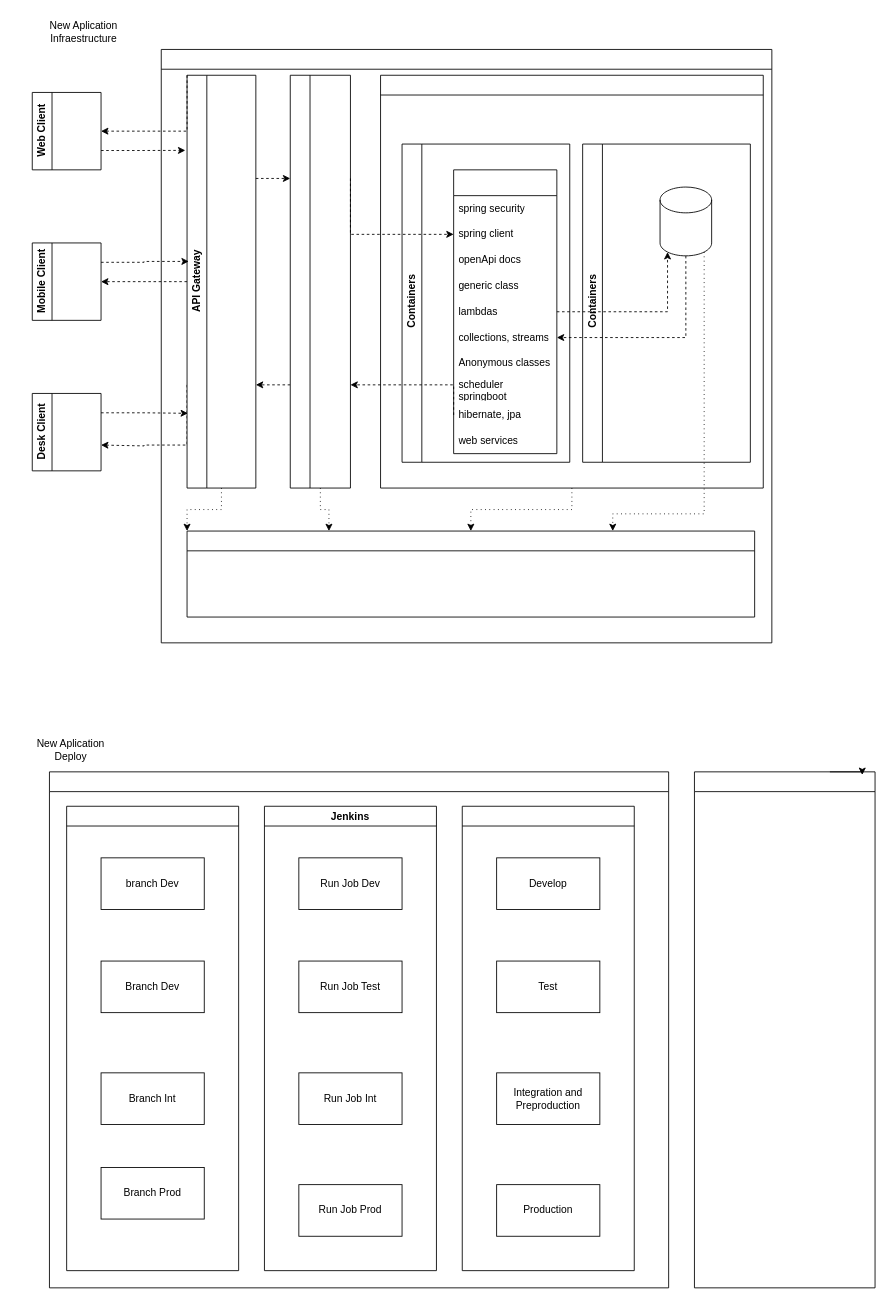
Some shapes in this 890 by 1303 pixel diagram are drawn without their labels. The shapes that lost their labels are listed below. From the top down, each one's box as (x1, y1, x2, y2) in pixels, then its label:
(659, 186, 712, 256): BD
(289, 74, 350, 488): Broker
(380, 74, 763, 488): Kubernetes
(453, 169, 557, 454): Backend
(160, 49, 772, 643): GCP
(186, 530, 755, 617): Logs
(66, 805, 239, 1271): GIT
(49, 771, 669, 1288): CI/CD App Deploy
(461, 805, 634, 1271): Enviroment
(694, 771, 875, 1288): BD Deploy
